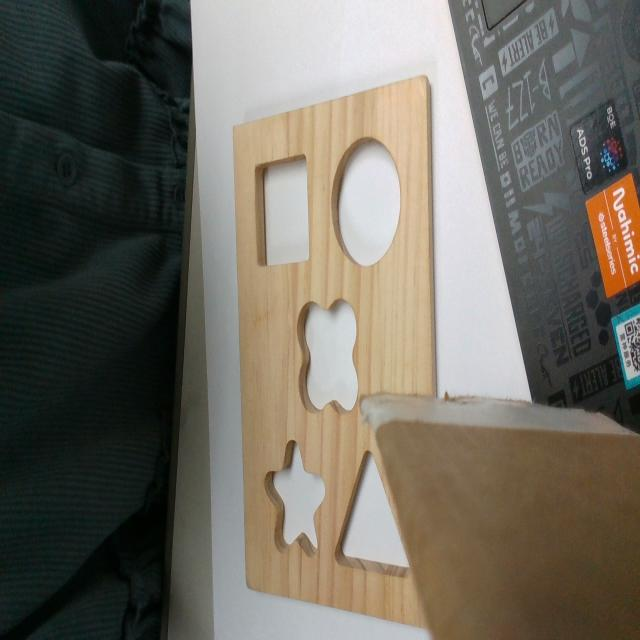circle: (330, 136, 402, 273)
flower: (297, 299, 360, 415)
square: (252, 155, 311, 270)
star: (264, 438, 326, 555)
triangle: (333, 449, 414, 580)
